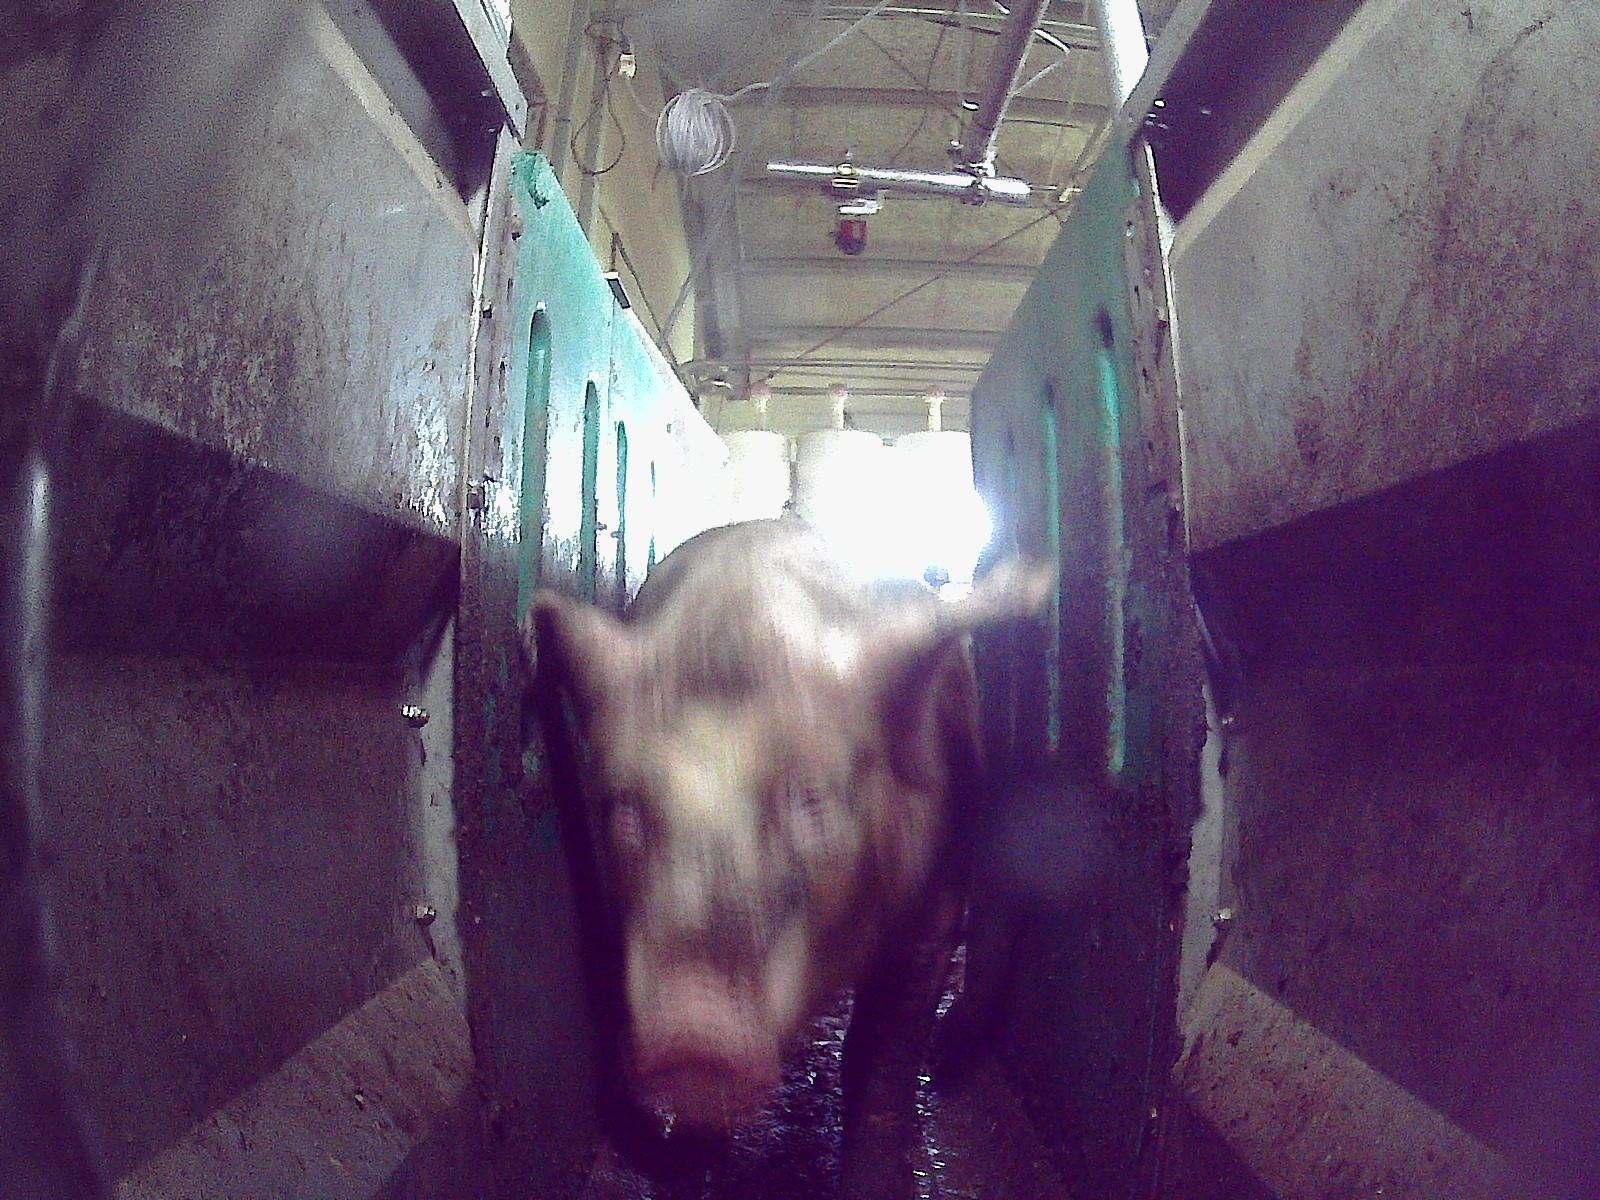Face: (585, 681, 928, 1124)
